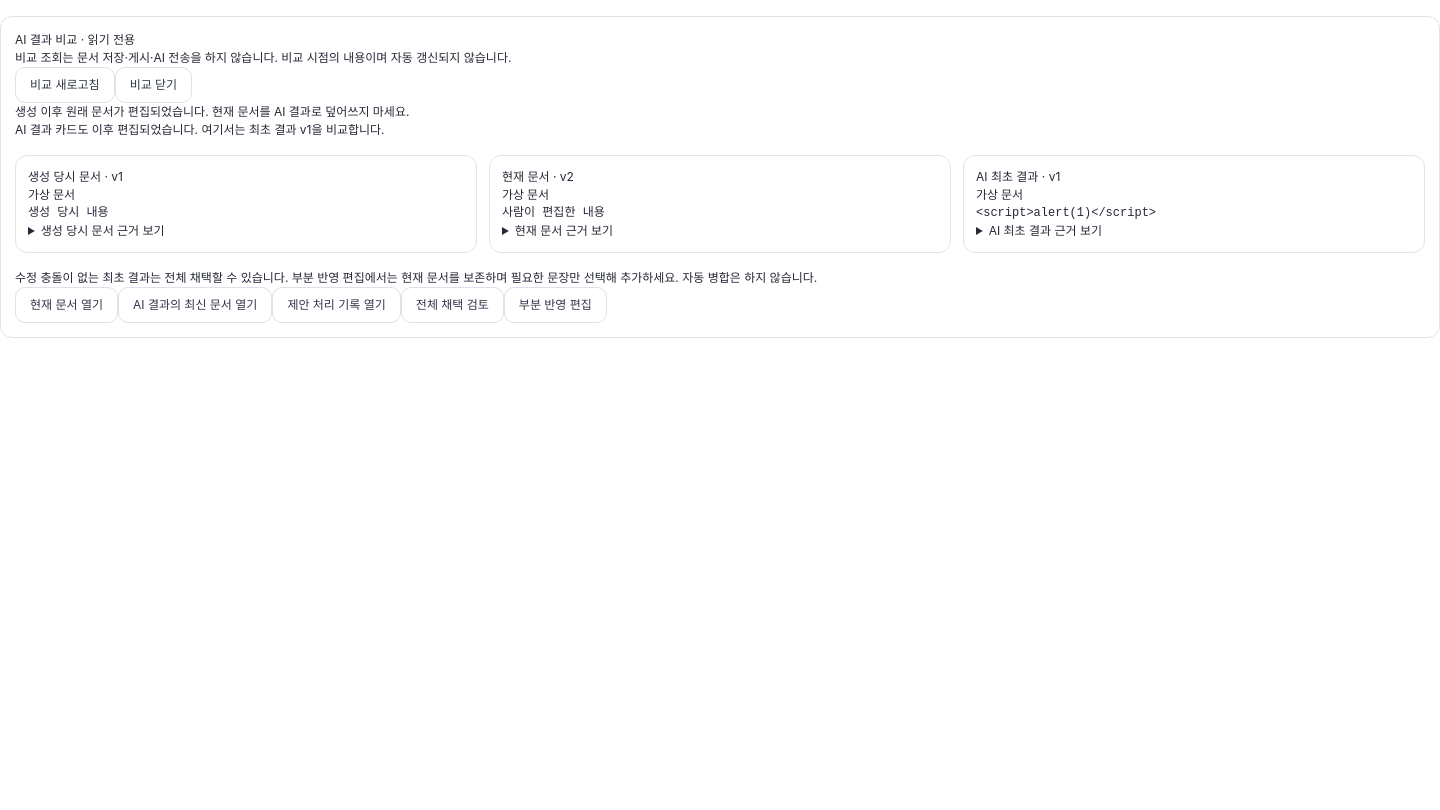
Scenario: 전체 채택 검토는 명시적으로 열며 사람 편집이 있으면 저장을 차단한다
The width and height of the screenshot is (1440, 810).
Expected: the element labelled "생성 당시 문서" is shown, [15,155,477,253]
Click the button "전체 채택 검토" at (452, 305), box [401,287,504,323]
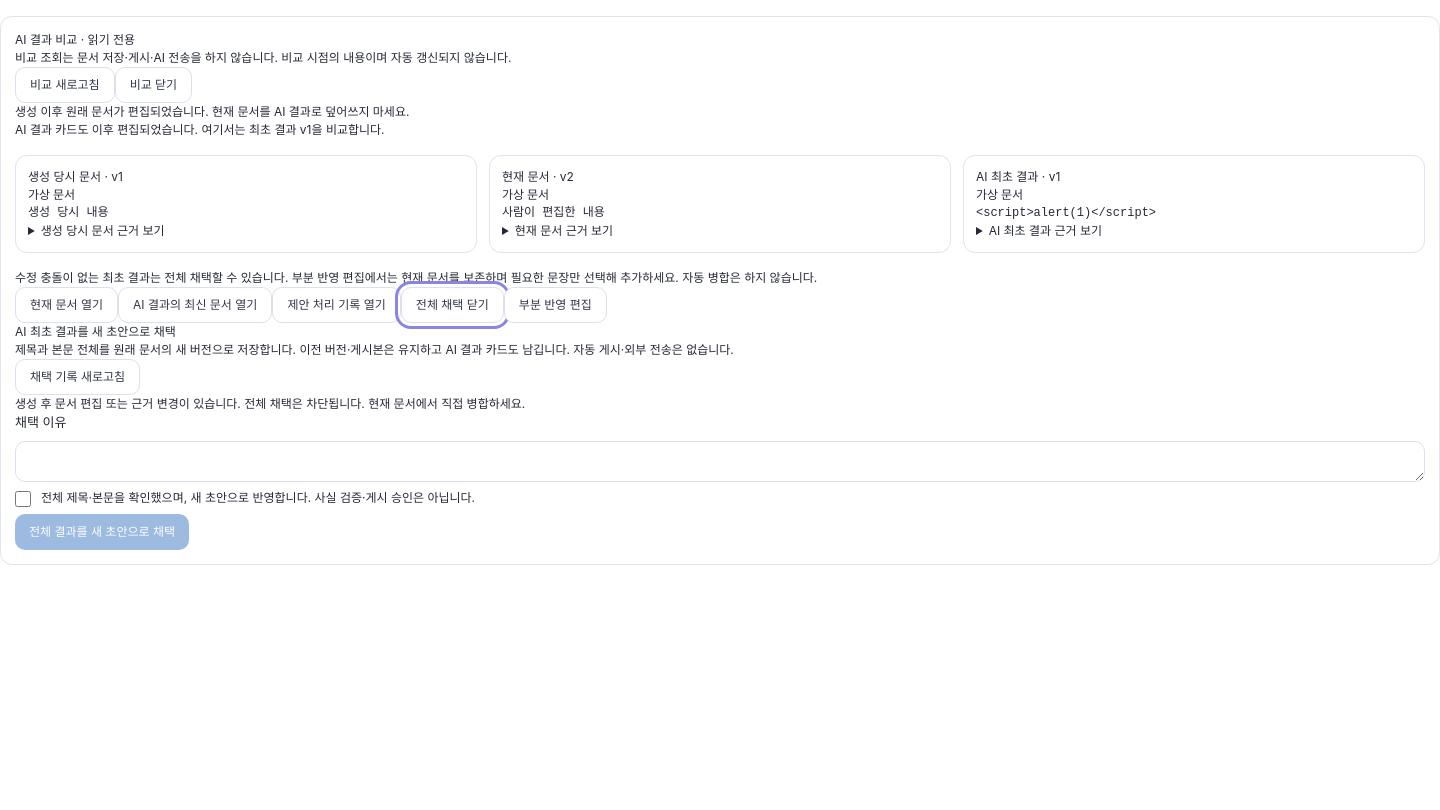
Now the button "전체 결과를 새 초안으로 채택" is disabled, box [15,514,189,550]
Now the text "생성 후 문서 편집 또는 근거 변경이 있습니다. 전체 채택은 차단됩니다. 현재 문서에서 직접 병합하세요." is shown, box [15,396,525,411]
